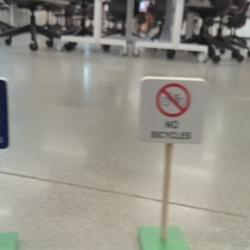no_bicycle: (139, 75, 206, 145)
